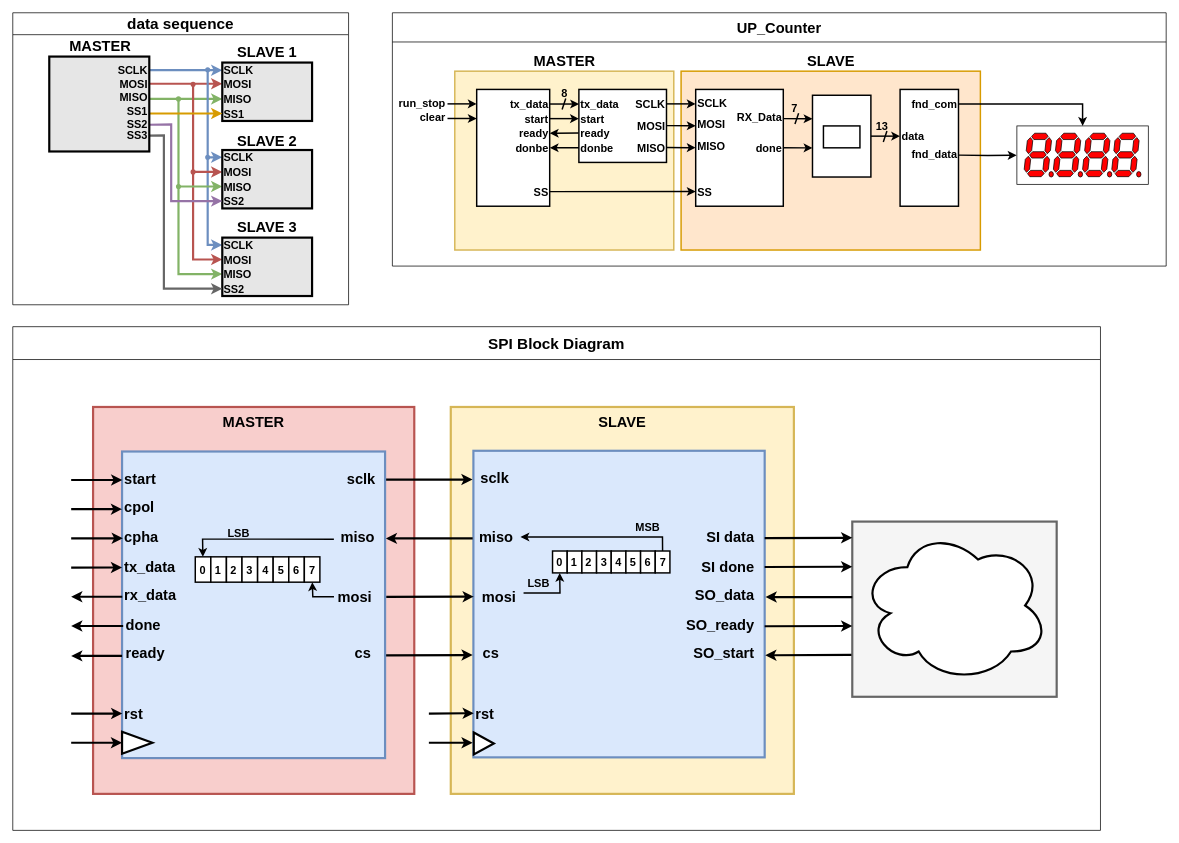
This 1179x843 diagram has some shape labels left out. Each missing label, with the centre of its shape:
"2 byte" belongs at point (841, 136).
"circuit" belongs at point (954, 605).
